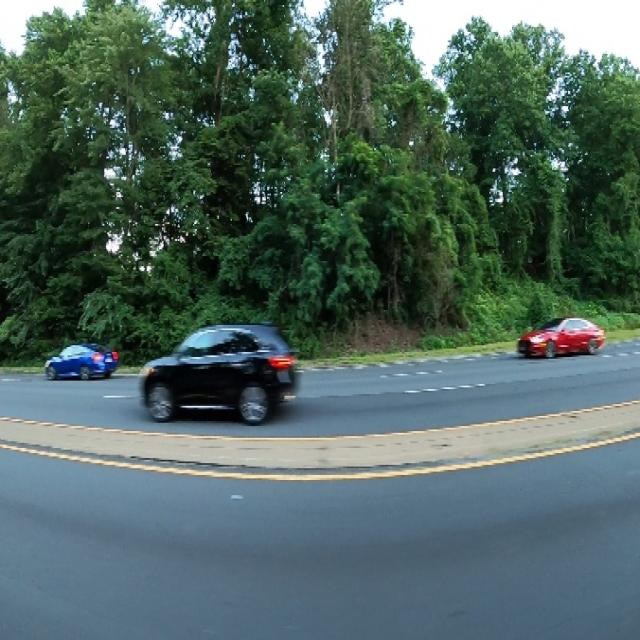car: (133, 300, 305, 434), (509, 305, 618, 374), (38, 328, 123, 384)
